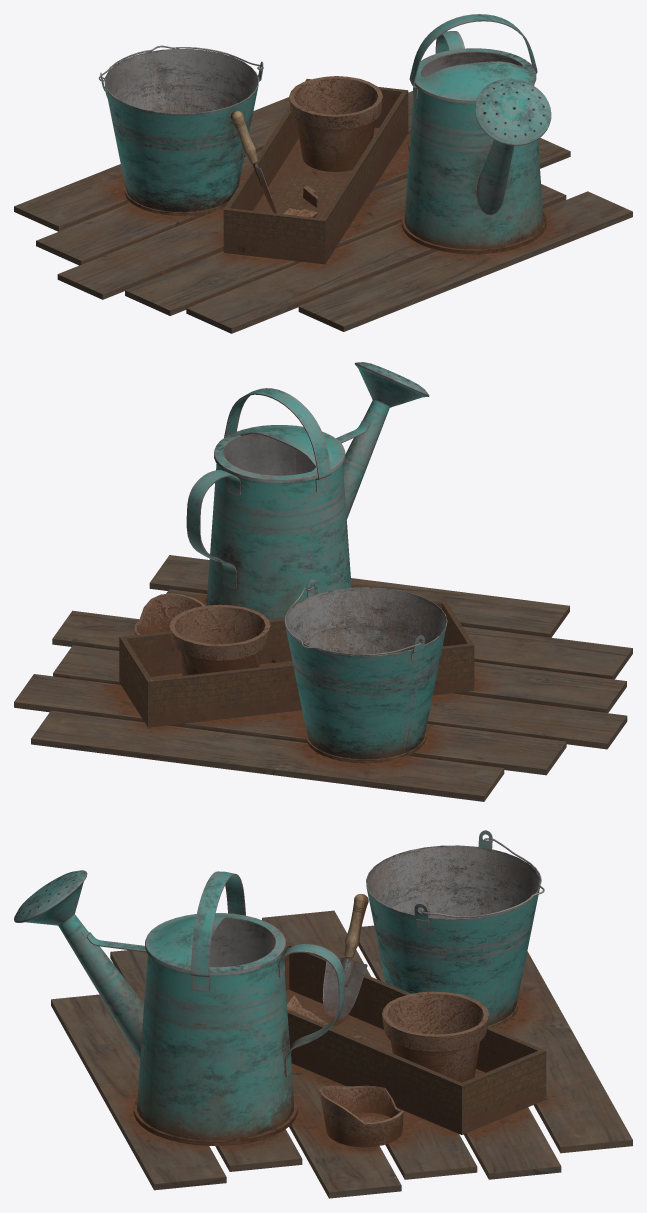
3 views of the same model, one above another, from view 1: azimuth 30°, elevation 25°; view 2: azimuth 150°, elevation 25°; view 3: azimuth 270°, elevation 25° (orthographic). The views are drawn at different scales.
Parts seen in each view (by area): view 1: plank, can, bucket, box, pot, shovel, pot2; view 2: plank, can, bucket, box, pot, pot2; view 3: can, plank, bucket, box, pot, pot2, shovel.
Part boxes in pixels (left/top/right/bottom): plank: left=14, top=91, right=632, bottom=333; can: left=401, top=14, right=551, bottom=254; bucket: left=98, top=45, right=263, bottom=215; box: left=223, top=79, right=408, bottom=264; pot: left=289, top=76, right=382, bottom=171; shovel: left=230, top=110, right=276, bottom=213; pot2: left=278, top=141, right=409, bottom=217; plank: left=14, top=555, right=632, bottom=801; can: left=186, top=362, right=429, bottom=619; bucket: left=284, top=579, right=447, bottom=763; box: left=119, top=600, right=474, bottom=727; pot: left=169, top=604, right=270, bottom=675; pot2: left=134, top=593, right=205, bottom=634; can: left=14, top=870, right=344, bottom=1145; plank: left=51, top=910, right=632, bottom=1198; bucket: left=366, top=830, right=544, bottom=1028; box: left=283, top=942, right=546, bottom=1134; pot: left=382, top=991, right=488, bottom=1082; pot2: left=287, top=995, right=403, bottom=1147; shovel: left=322, top=894, right=368, bottom=1026.
Bounding box in the file's own units: 34.71 × 13.72 × 32.22.
6 materials, 6 textured.
